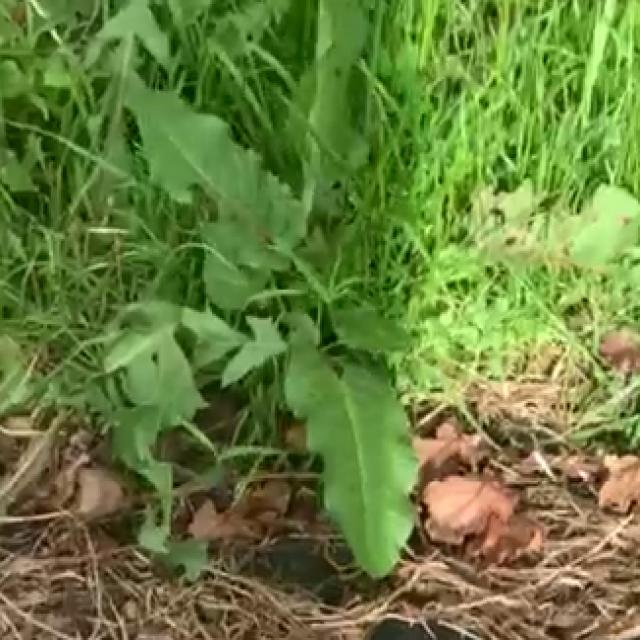organic waste: (45, 0, 514, 581)
